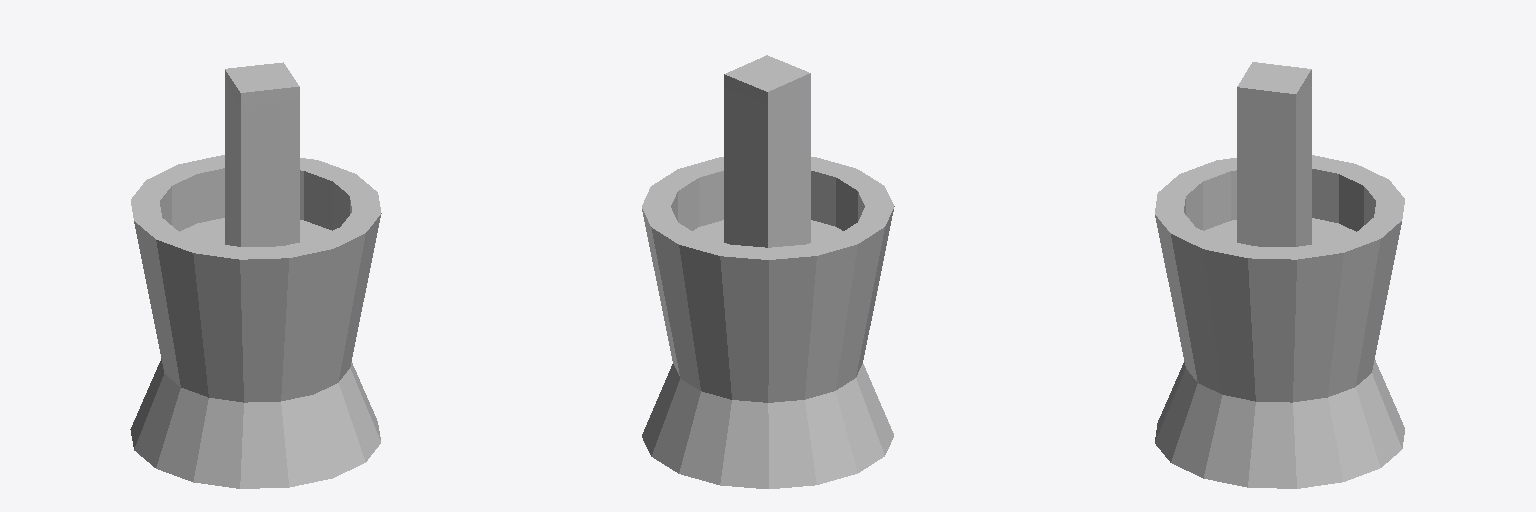
The model's file is cactus_grande_01_000002.obj.
3 renders of one model, left to right at view 1: azimuth 30°, elevation 25°; view 2: azimuth 150°, elevation 25°; view 3: azimuth 270°, elevation 25°, orthographic.
Parts seen in each view (by area): view 1: Cylinder, NurbsPath.001; view 2: Cylinder, NurbsPath.001; view 3: Cylinder, NurbsPath.001.
Part boxes in pixels (x1,y1,x2,y2): Cylinder: (130, 155, 381, 488); NurbsPath.001: (225, 62, 299, 246); Cylinder: (642, 157, 894, 488); NurbsPath.001: (724, 55, 810, 247); Cylinder: (1155, 155, 1404, 488); NurbsPath.001: (1237, 62, 1311, 246).
Size of the model in its own units: 1.29 by 2.04 by 1.29.